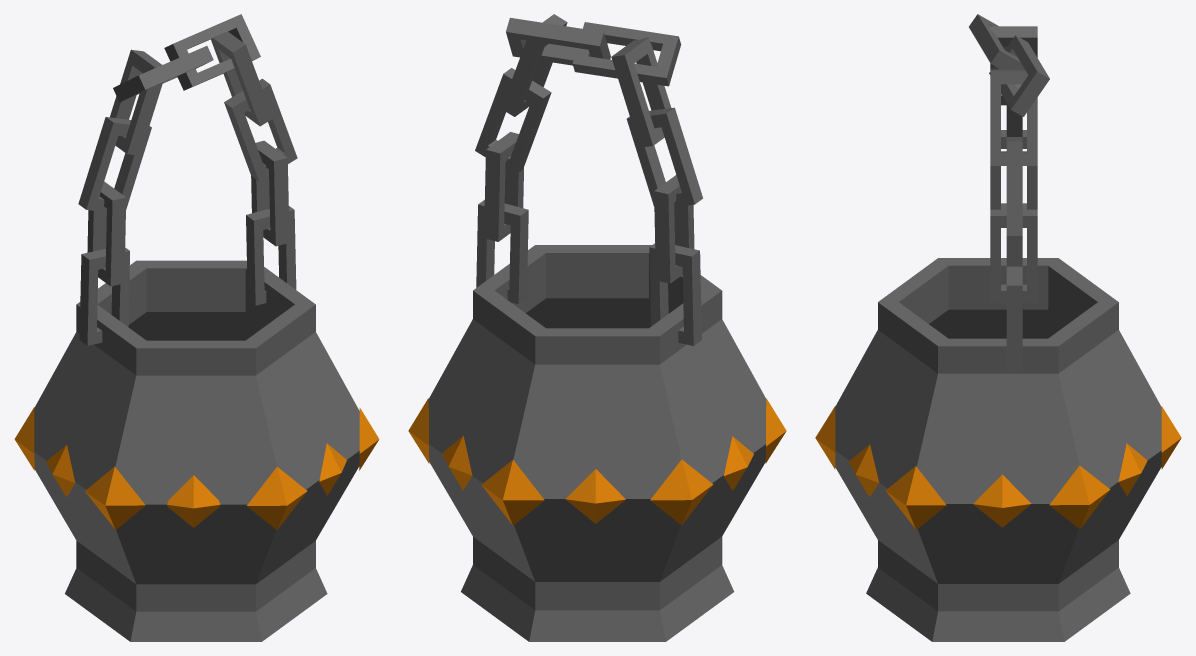
File: Incienso.fbx
3 views of the same model, side by side, from view 1: azimuth 30°, elevation 25°; view 2: azimuth 150°, elevation 25°; view 3: azimuth 270°, elevation 25° (orthographic). The views are drawn at different scales.
Visible parts, largest first — view 1: Cylinder.001; view 2: Cylinder.001; view 3: Cylinder.001.
Boxes of the visible parts, x1,y1,x2,y2 form: Cylinder.001: (14, 14, 379, 641); Cylinder.001: (408, 14, 786, 641); Cylinder.001: (815, 14, 1181, 641).
Size of the model in its own units: 28.98 by 53.08 by 31.84.
